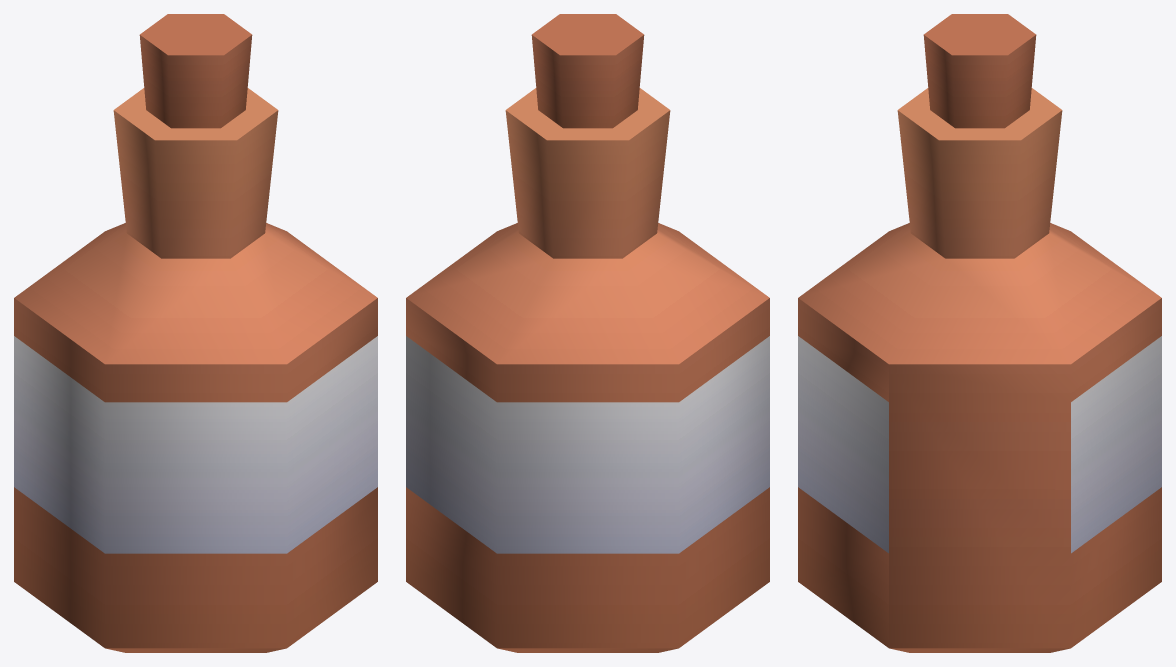
Rendered from bottle-large.glb.
3 renders of one model, left to right at view 1: azimuth 30°, elevation 25°; view 2: azimuth 150°, elevation 25°; view 3: azimuth 270°, elevation 25°, orthographic.
Visible parts, largest first — view 1: bottle-large; view 2: bottle-large; view 3: bottle-large.
Part boxes in pixels (x1=…): bottle-large: x1=14, y1=14, x2=377, y2=652; bottle-large: x1=406, y1=14, x2=769, y2=652; bottle-large: x1=798, y1=14, x2=1161, y2=652.
Size of the model in its own units: 0.0725 by 0.1439 by 0.0837.
Materials: 1 (1 with a texture image).
